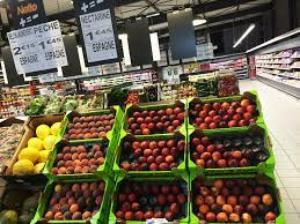peach: (187, 173, 281, 224), (110, 172, 186, 224), (187, 133, 273, 173), (47, 174, 109, 224), (186, 94, 266, 130), (47, 139, 116, 175), (121, 100, 187, 136), (121, 136, 187, 172), (66, 112, 116, 138)
